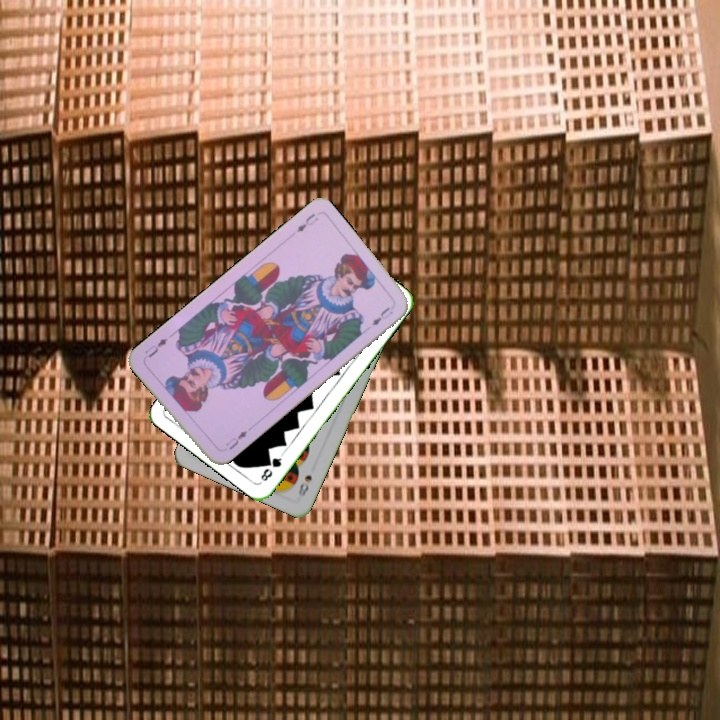EU: (222, 426, 250, 453), (292, 209, 321, 235)
G8: (257, 450, 285, 484)
S8: (293, 471, 315, 500)
